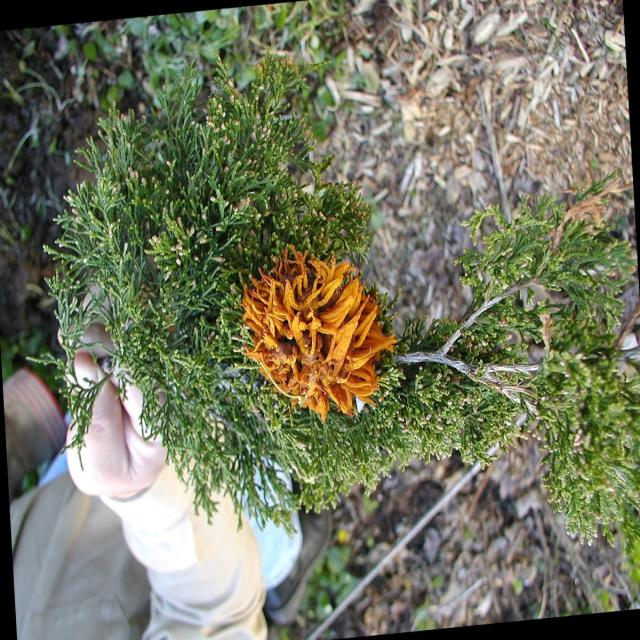Gymnosporangium_Rusts: (239, 243, 398, 423)
